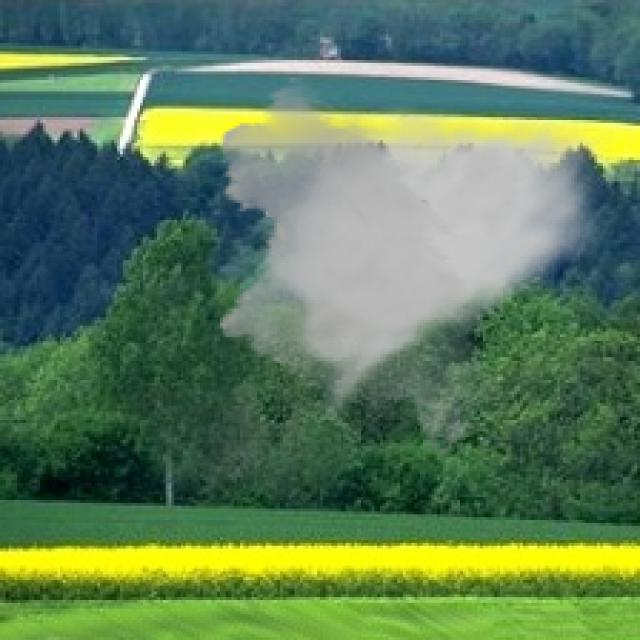smoke: (209, 74, 614, 457)
